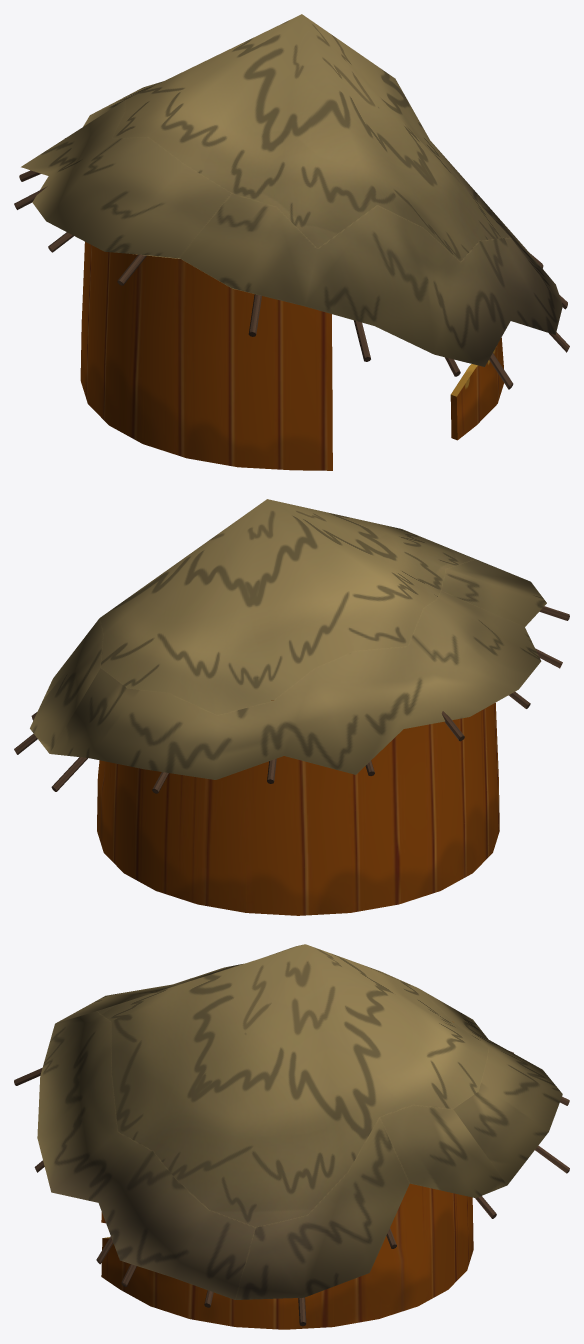
File: Oca_Quebrada_Pequena.fbx
The picture shows the model from 3 angles, top to bottom: view 1: azimuth 30°, elevation 25°; view 2: azimuth 150°, elevation 25°; view 3: azimuth 270°, elevation 25°; orthographic projection. The views are drawn at different scales.
Parts seen in each view (by area): view 1: Oca_Quebrada_Telhado, Oca_Quebrada, Madeiras_Telhado; view 2: Oca_Quebrada_Telhado, Oca_Quebrada, Madeiras_Telhado; view 3: Oca_Quebrada_Telhado, Oca_Quebrada, Madeiras_Telhado.
Part boxes in pixels (x1,y1,x2,y2): Oca_Quebrada_Telhado: (21,14,562,366); Oca_Quebrada: (80,242,503,470); Madeiras_Telhado: (14,138,569,389); Oca_Quebrada_Telhado: (30,499,546,779); Oca_Quebrada: (97,700,499,915); Madeiras_Telhado: (14,606,569,793); Oca_Quebrada_Telhado: (37,944,562,1299); Oca_Quebrada: (101,1021,473,1329); Madeiras_Telhado: (14,1051,569,1326).
Size of the model in its own units: 722 by 483 by 773.
